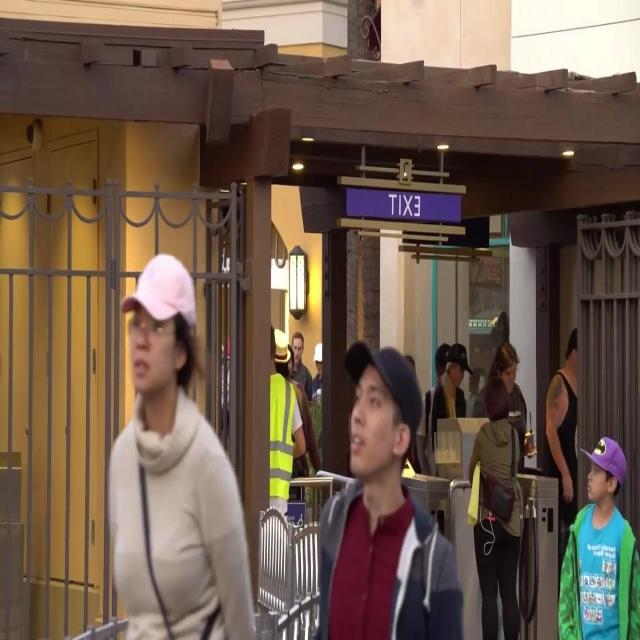Reflective-Jacket: (268, 372, 304, 502)
